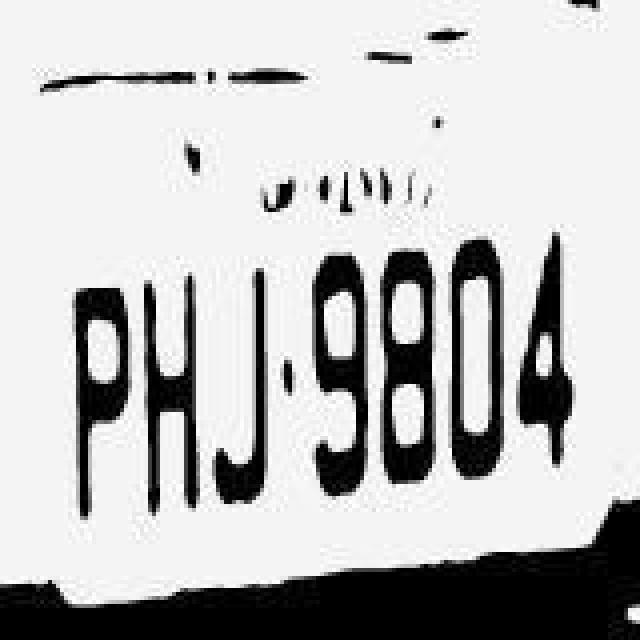4: (514, 212, 590, 476)
8: (372, 226, 444, 494)
9: (302, 234, 378, 502)
H: (136, 268, 216, 524)
J: (212, 268, 284, 532)
O: (444, 216, 516, 488)
P: (48, 274, 128, 542)
